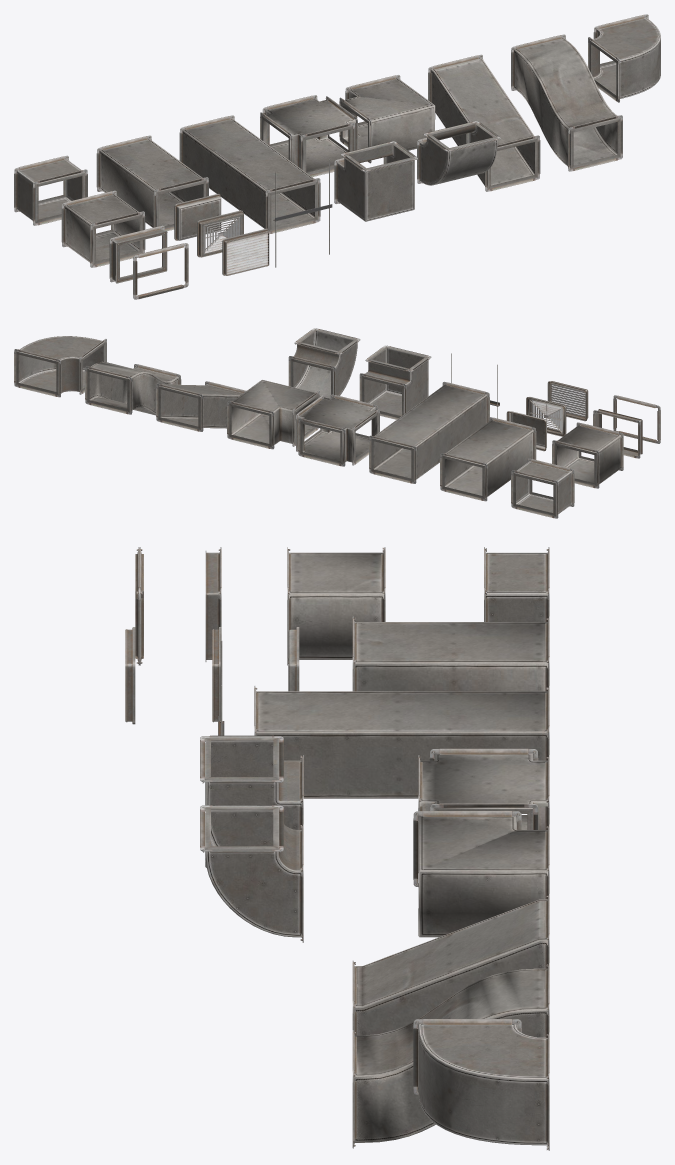
File: modular_airduct_rectangular_01.gltf
3 views of the same model, one above another, from view 1: azimuth 30°, elevation 25°; view 2: azimuth 150°, elevation 25°; view 3: azimuth 270°, elevation 25° (orthographic). The views are drawn at different scales.
Visible parts, largest first — view 1: modular_airduct_rectangular_01_tripple_01, modular_airduct_rectangular_01_transition_double_02, modular_airduct_rectangular_01_transition_double_01, modular_airduct_rectangular_01_double_01, modular_airduct_rectangular_01_splitter_01, modular_airduct_rectangular_01_corner_01, modular_airduct_rectangular_01_corner_02, modular_airduct_rectangular_01_bend_02, modular_airduct_rectangular_01_single_01, modular_airduct_rectangular_01_bend_01, modular_airduct_rectangular_01_half_01, modular_airduct_rectangular_01_vent_01 (+4 smaller); view 2: modular_airduct_rectangular_01_tripple_01, modular_airduct_rectangular_01_double_01, modular_airduct_rectangular_01_splitter_01, modular_airduct_rectangular_01_corner_02, modular_airduct_rectangular_01_bend_02, modular_airduct_rectangular_01_corner_01, modular_airduct_rectangular_01_bend_01, modular_airduct_rectangular_01_transition_double_02, modular_airduct_rectangular_01_single_01, modular_airduct_rectangular_01_transition_double_01, modular_airduct_rectangular_01_half_01, modular_airduct_rectangular_01_vent_01 (+4 smaller); view 3: modular_airduct_rectangular_01_tripple_01, modular_airduct_rectangular_01_bend_02, modular_airduct_rectangular_01_corner_02, modular_airduct_rectangular_01_double_01, modular_airduct_rectangular_01_transition_double_01, modular_airduct_rectangular_01_transition_double_02, modular_airduct_rectangular_01_bend_01, modular_airduct_rectangular_01_single_01, modular_airduct_rectangular_01_splitter_01, modular_airduct_rectangular_01_corner_01, modular_airduct_rectangular_01_half_01, modular_airduct_rectangular_01_connector_01 (+3 smaller).
Boxes of the visible parts, bbox=[...] form: modular_airduct_rectangular_01_tripple_01: bbox=[179, 115, 320, 233]; modular_airduct_rectangular_01_transition_double_02: bbox=[511, 34, 622, 171]; modular_airduct_rectangular_01_transition_double_01: bbox=[428, 54, 540, 191]; modular_airduct_rectangular_01_double_01: bbox=[96, 135, 208, 231]; modular_airduct_rectangular_01_splitter_01: bbox=[260, 95, 357, 176]; modular_airduct_rectangular_01_corner_01: bbox=[334, 141, 417, 221]; modular_airduct_rectangular_01_corner_02: bbox=[339, 75, 435, 163]; modular_airduct_rectangular_01_bend_02: bbox=[588, 14, 660, 102]; modular_airduct_rectangular_01_single_01: bbox=[61, 190, 145, 267]; modular_airduct_rectangular_01_bend_01: bbox=[417, 121, 500, 185]; modular_airduct_rectangular_01_half_01: bbox=[14, 155, 87, 225]; modular_airduct_rectangular_01_vent_01: bbox=[222, 229, 269, 275]; modular_airduct_rectangular_01_tripple_01: bbox=[369, 381, 489, 483]; modular_airduct_rectangular_01_double_01: bbox=[440, 417, 536, 501]; modular_airduct_rectangular_01_splitter_01: bbox=[296, 394, 379, 466]; modular_airduct_rectangular_01_corner_02: bbox=[227, 380, 319, 449]; modular_airduct_rectangular_01_bend_02: bbox=[14, 336, 106, 397]; modular_airduct_rectangular_01_corner_01: bbox=[359, 345, 431, 419]; modular_airduct_rectangular_01_bend_01: bbox=[288, 328, 360, 399]; modular_airduct_rectangular_01_transition_double_02: bbox=[85, 361, 181, 415]; modular_airduct_rectangular_01_single_01: bbox=[552, 422, 623, 488]; modular_airduct_rectangular_01_transition_double_01: bbox=[156, 381, 246, 431]; modular_airduct_rectangular_01_half_01: bbox=[511, 458, 574, 518]; modular_airduct_rectangular_01_vent_01: bbox=[547, 381, 588, 421]; modular_airduct_rectangular_01_tripple_01: bbox=[254, 686, 549, 798]; modular_airduct_rectangular_01_bend_02: bbox=[413, 1019, 549, 1150]; modular_airduct_rectangular_01_corner_02: bbox=[413, 811, 549, 937]; modular_airduct_rectangular_01_double_01: bbox=[352, 616, 549, 691]; modular_airduct_rectangular_01_transition_double_01: bbox=[352, 894, 549, 1035]; modular_airduct_rectangular_01_transition_double_02: bbox=[352, 963, 549, 1148]; modular_airduct_rectangular_01_bend_01: bbox=[200, 805, 303, 942]; modular_airduct_rectangular_01_single_01: bbox=[287, 547, 385, 665]; modular_airduct_rectangular_01_splitter_01: bbox=[418, 748, 549, 872]; modular_airduct_rectangular_01_corner_01: bbox=[200, 735, 303, 867]; modular_airduct_rectangular_01_half_01: bbox=[484, 547, 549, 621]; modular_airduct_rectangular_01_connector_01: bbox=[205, 547, 221, 661].
Size of the model in its own units: 7.66 by 1.26 by 2.59.
Materials: 2 (2 with a texture image).
